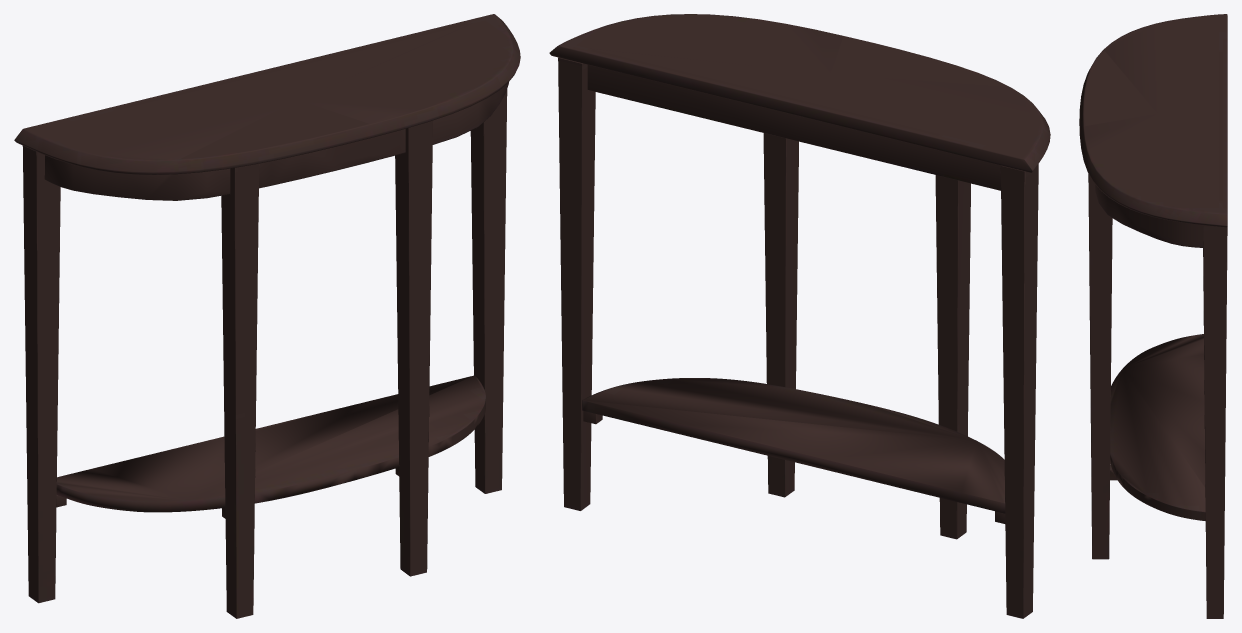
File: B07DMJN8H3.glb
The picture shows the model from 3 angles, left to right: view 1: azimuth 30°, elevation 25°; view 2: azimuth 150°, elevation 25°; view 3: azimuth 270°, elevation 25°; orthographic projection. The views are drawn at different scales.
Visible parts, largest first — view 1: B07DMJN8H3; view 2: B07DMJN8H3; view 3: B07DMJN8H3.
Boxes of the visible parts, bbox=[...] form: B07DMJN8H3: bbox=[14, 14, 520, 618]; B07DMJN8H3: bbox=[549, 14, 1050, 618]; B07DMJN8H3: bbox=[1079, 14, 1227, 618].
Bounding box in the file's own units: 0.9093 × 0.8306 × 0.2743.
1 material, 1 textured.
